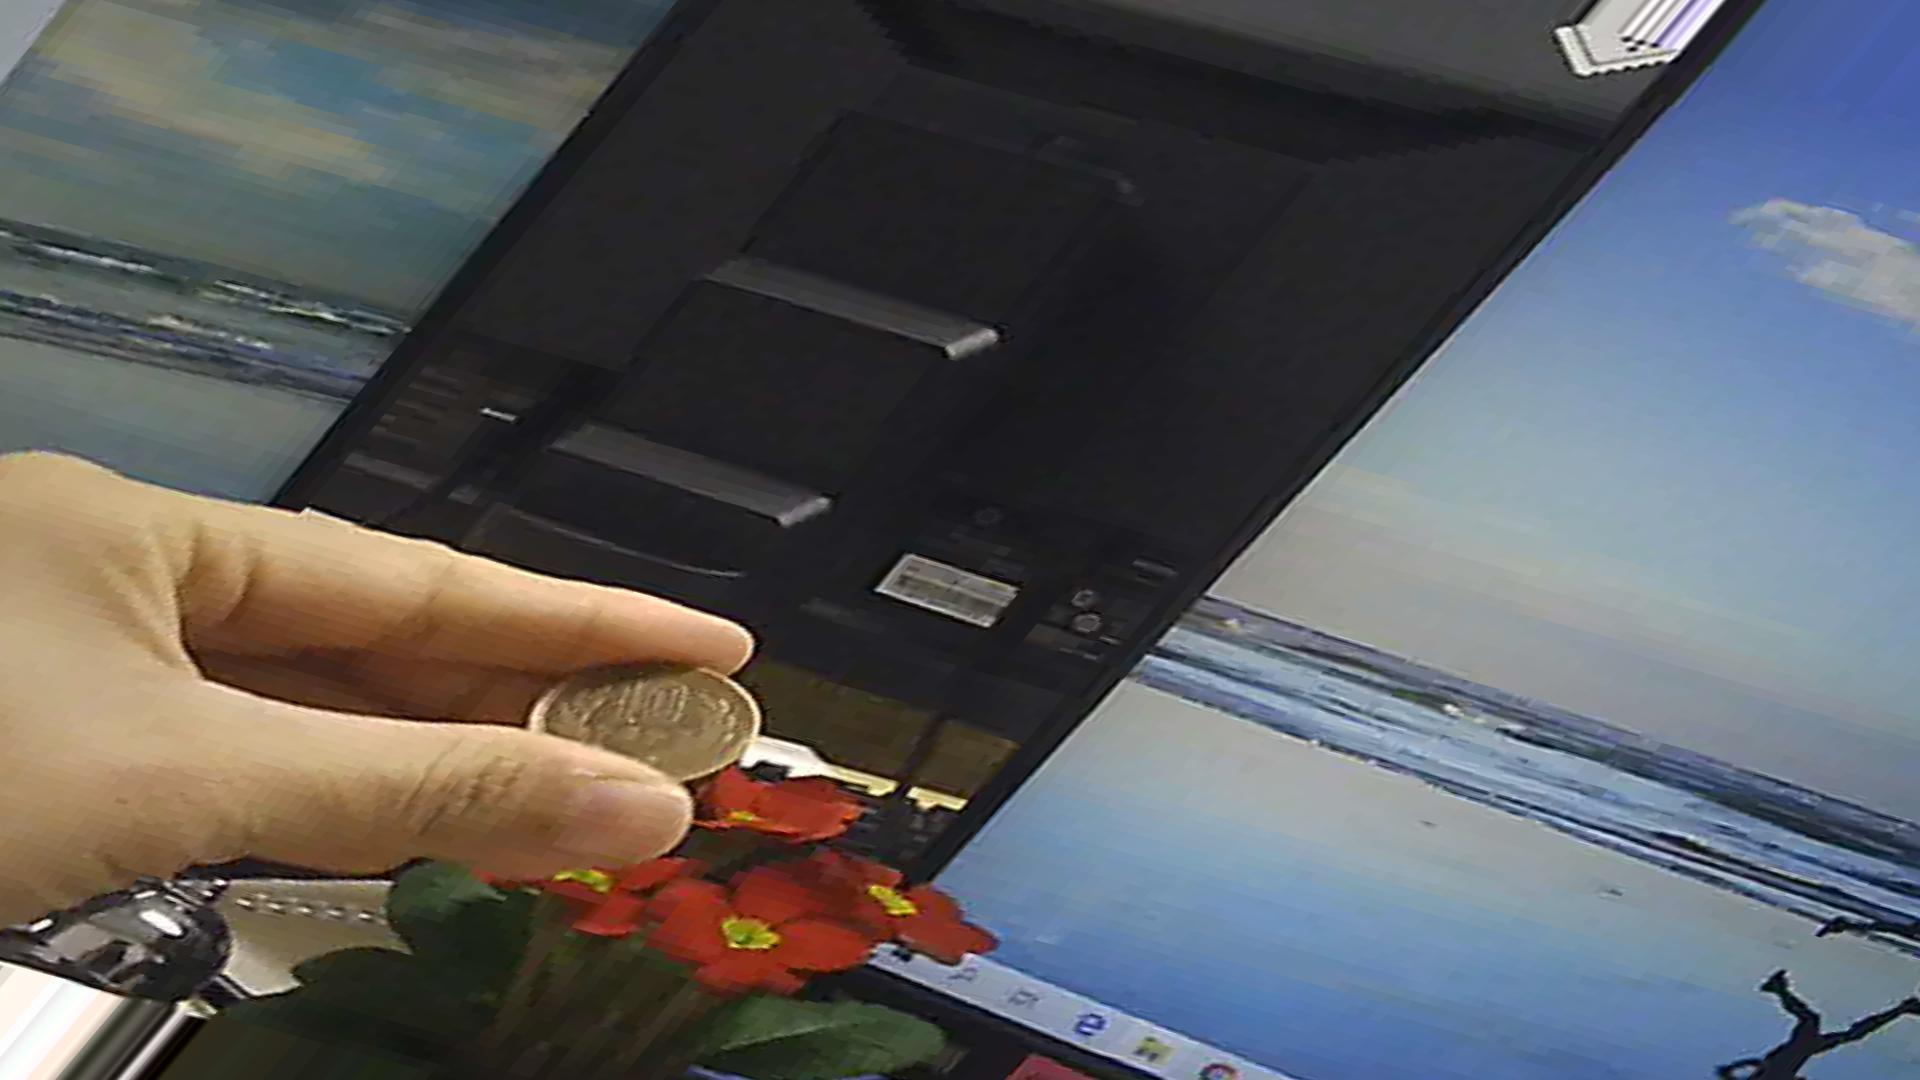10 Yen: (512, 640, 757, 802)
